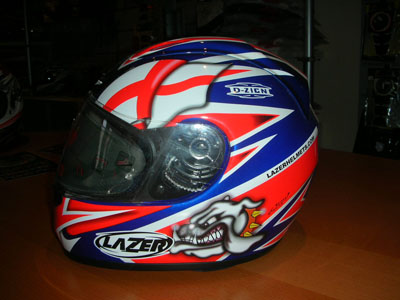helmet: (80, 44, 312, 257)
